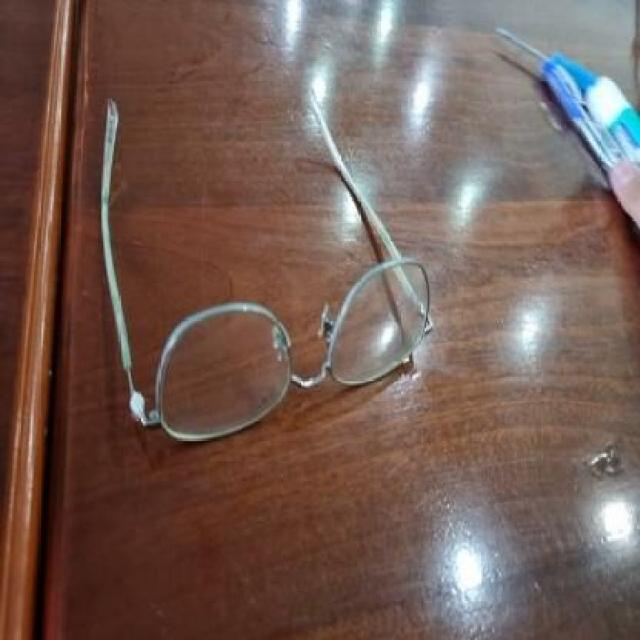not trash: (88, 84, 432, 451), (484, 14, 640, 220)
